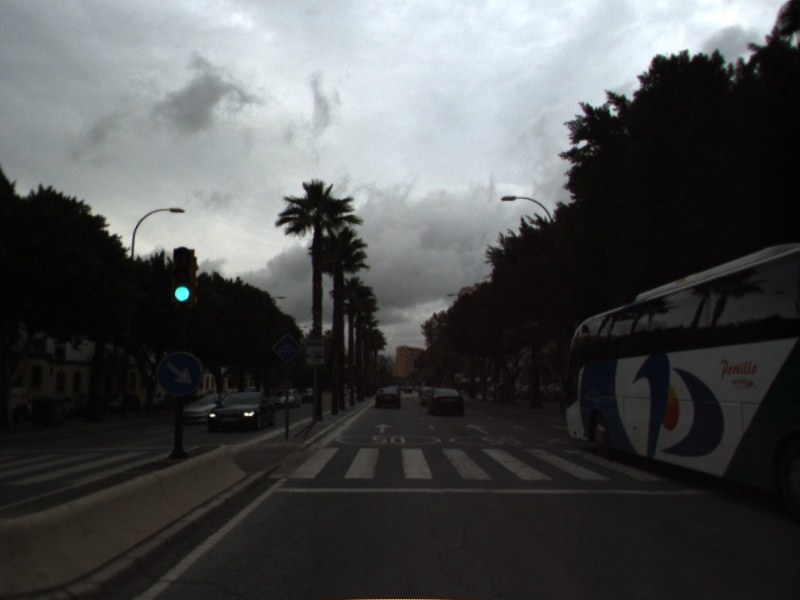STRAIGHT: (463, 421, 491, 437), (371, 421, 395, 436)
